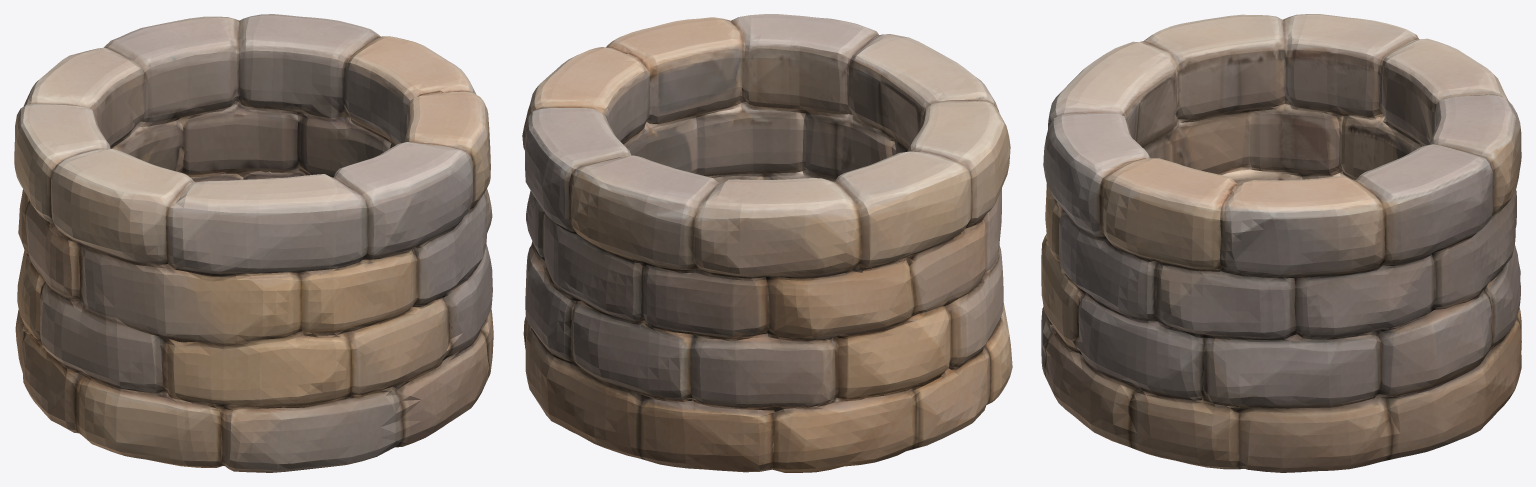
File: StoneWell_Low30k.fbx
3 renders of one model, left to right at view 1: azimuth 30°, elevation 25°; view 2: azimuth 150°, elevation 25°; view 3: azimuth 270°, elevation 25°, orthographic.
Parts seen in each view (by area): view 1: StoneWell_Low; view 2: StoneWell_Low; view 3: StoneWell_Low.
Part boxes in pixels (x1,y1,x2,y2): StoneWell_Low: (14,14,493,472); StoneWell_Low: (522,14,1012,472); StoneWell_Low: (1041,14,1521,472).
Bounding box in the file's own units: 99.66 × 61.98 × 99.85.
Materials: 1 (1 with a texture image).
